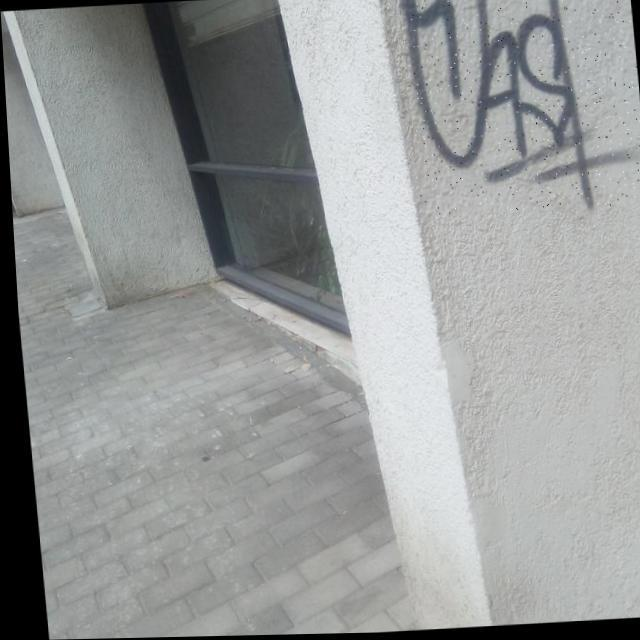-: (399, 0, 640, 220)
